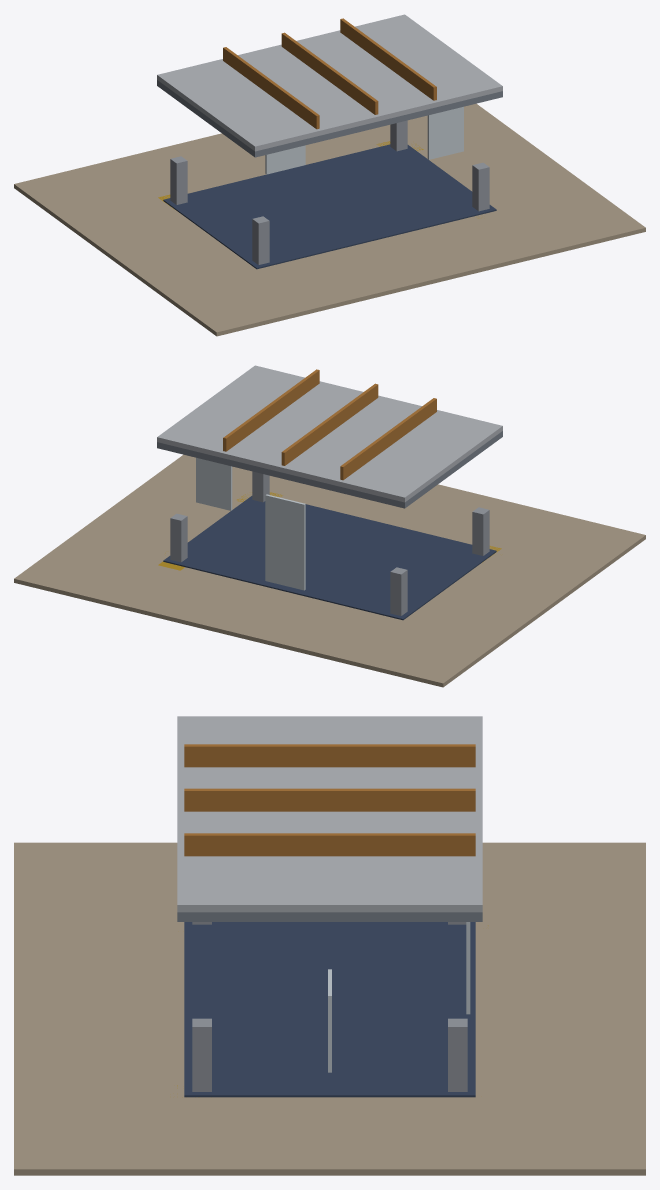
The model's file is stage_10_roof_covering.glb.
3 renders of one model, top to bottom at view 1: azimuth 30°, elevation 25°; view 2: azimuth 150°, elevation 25°; view 3: azimuth 270°, elevation 25°, orthographic. The views are drawn at different scales.
Parts seen in each view (by area): view 1: world; view 2: world; view 3: world.
Boxes of the visible parts, bbox=[...] form: world: bbox=[14, 14, 645, 336]; world: bbox=[14, 365, 645, 687]; world: bbox=[14, 716, 645, 1175].
Size of the model in its own units: 11 by 4.2 by 9.
